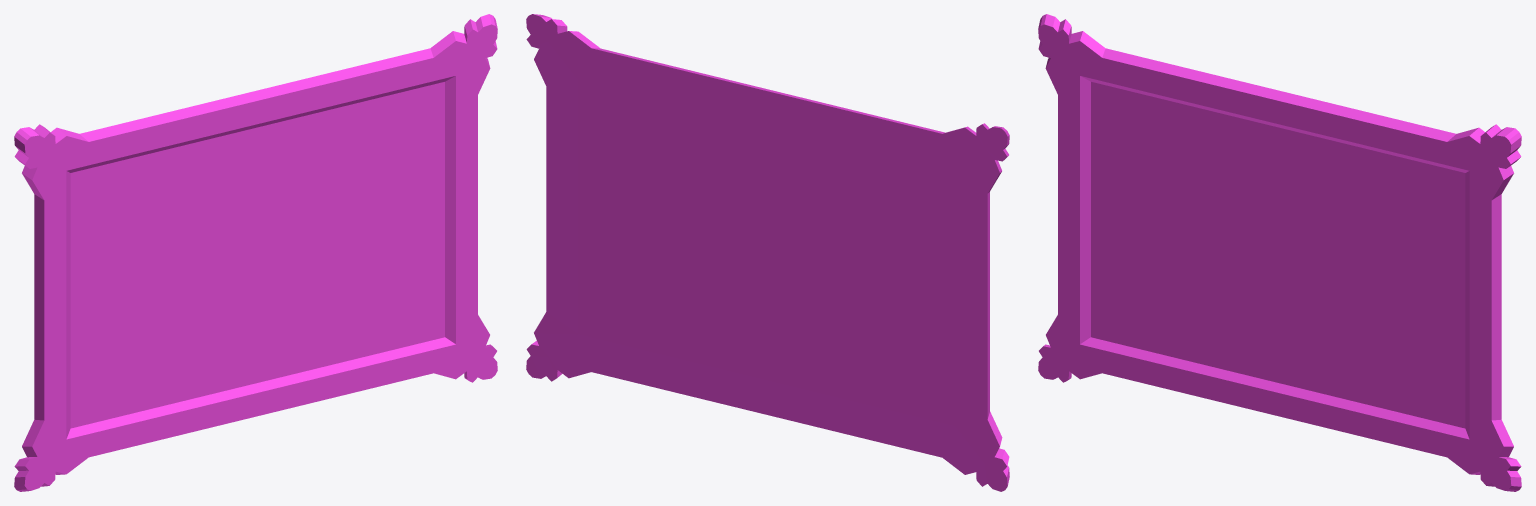
File: SM_Picture_Monster_Painting_Fantasy.fbx
The picture shows the model from 3 angles, left to right: view 1: azimuth 30°, elevation 25°; view 2: azimuth 150°, elevation 25°; view 3: azimuth 330°, elevation 25°; orthographic projection.
Visible parts, largest first — view 1: SM_Picture_Monster_Painting_Fantasy; view 2: SM_Picture_Monster_Painting_Fantasy; view 3: SM_Picture_Monster_Painting_Fantasy.
Boxes of the visible parts, x1,y1,x2,y2 form: SM_Picture_Monster_Painting_Fantasy: [14, 14, 497, 491]; SM_Picture_Monster_Painting_Fantasy: [526, 14, 1009, 491]; SM_Picture_Monster_Painting_Fantasy: [1038, 14, 1521, 491].
Size of the model in its own units: 2 by 1.44 by 0.0459.
